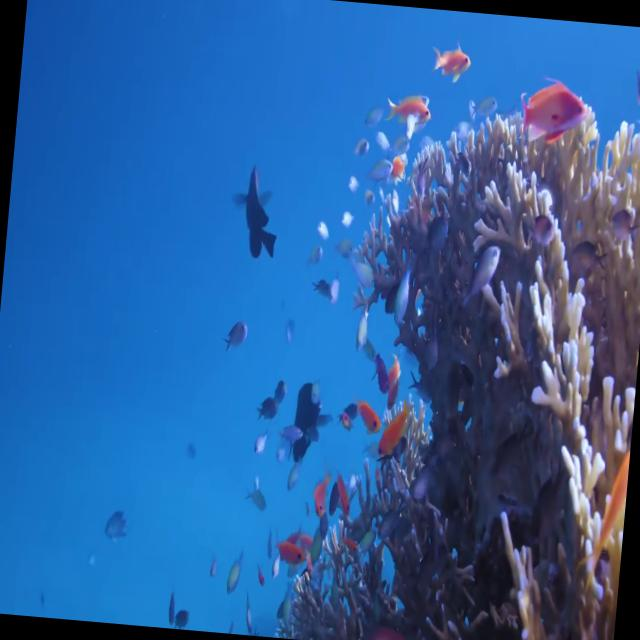fish: (514, 57, 594, 145), (224, 158, 286, 258), (452, 230, 504, 318), (511, 198, 569, 260), (376, 386, 419, 468), (382, 84, 437, 132), (266, 518, 312, 570), (215, 304, 254, 359), (218, 542, 254, 600), (431, 32, 476, 78), (349, 394, 386, 449)
